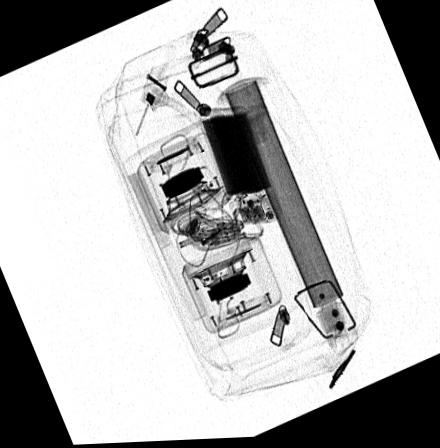Powerbank: (196, 107, 284, 225)
